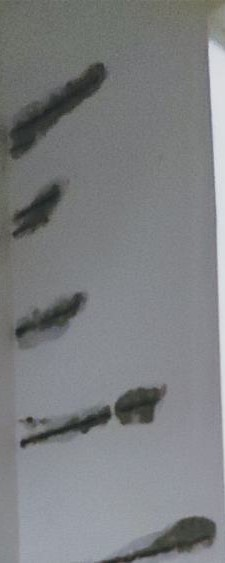Exposed reinforcement: (15, 80, 94, 131), (99, 534, 211, 563), (20, 412, 109, 445), (14, 301, 80, 339), (16, 191, 59, 219), (11, 217, 44, 238), (119, 397, 161, 412), (10, 139, 33, 152)
Spalling: (8, 60, 109, 162), (99, 515, 217, 563), (13, 291, 87, 351), (17, 404, 111, 449), (10, 182, 61, 240), (114, 382, 167, 427)
